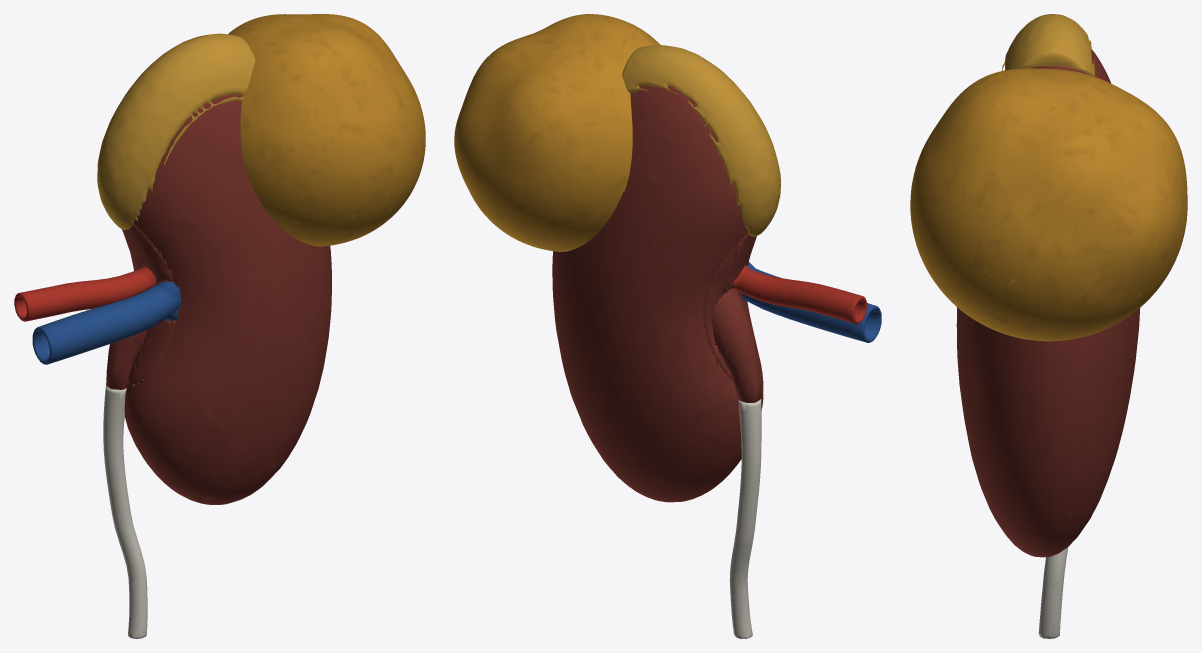
File: kidney_t1b.glb
The picture shows the model from 3 angles, left to right: view 1: azimuth 30°, elevation 25°; view 2: azimuth 150°, elevation 25°; view 3: azimuth 270°, elevation 25°; orthographic projection. The views are drawn at different scales.
Parts seen in each view (by area): view 1: kidney_body, tumor, adrenal_gland, renal_vein, ureter, renal_artery; view 2: kidney_body, tumor, adrenal_gland, ureter, renal_artery, renal_vein; view 3: tumor, kidney_body, adrenal_gland, ureter.
Part boxes in pixels (x1=…): kidney_body: x1=106, y1=94, x2=331, y2=504; tumor: x1=228, y1=14, x2=425, y2=246; adrenal_gland: x1=97, y1=33, x2=255, y2=229; renal_vein: x1=32, y1=281, x2=181, y2=364; ureter: x1=103, y1=386, x2=147, y2=638; renal_artery: x1=14, y1=266, x2=157, y2=321; kidney_body: x1=552, y1=85, x2=763, y2=502; tumor: x1=454, y1=14, x2=660, y2=251; adrenal_gland: x1=622, y1=45, x2=780, y2=236; ureter: x1=729, y1=399, x2=761, y2=638; renal_artery: x1=731, y1=265, x2=867, y2=324; renal_vein: x1=742, y1=262, x2=881, y2=342; tumor: x1=910, y1=68, x2=1187, y2=341; kidney_body: x1=956, y1=49, x2=1140, y2=557; adrenal_gland: x1=1002, y1=14, x2=1094, y2=76; ureter: x1=1038, y1=547, x2=1068, y2=638.
Bounding box in the file's own units: 10.02 × 14.23 × 5.5.
